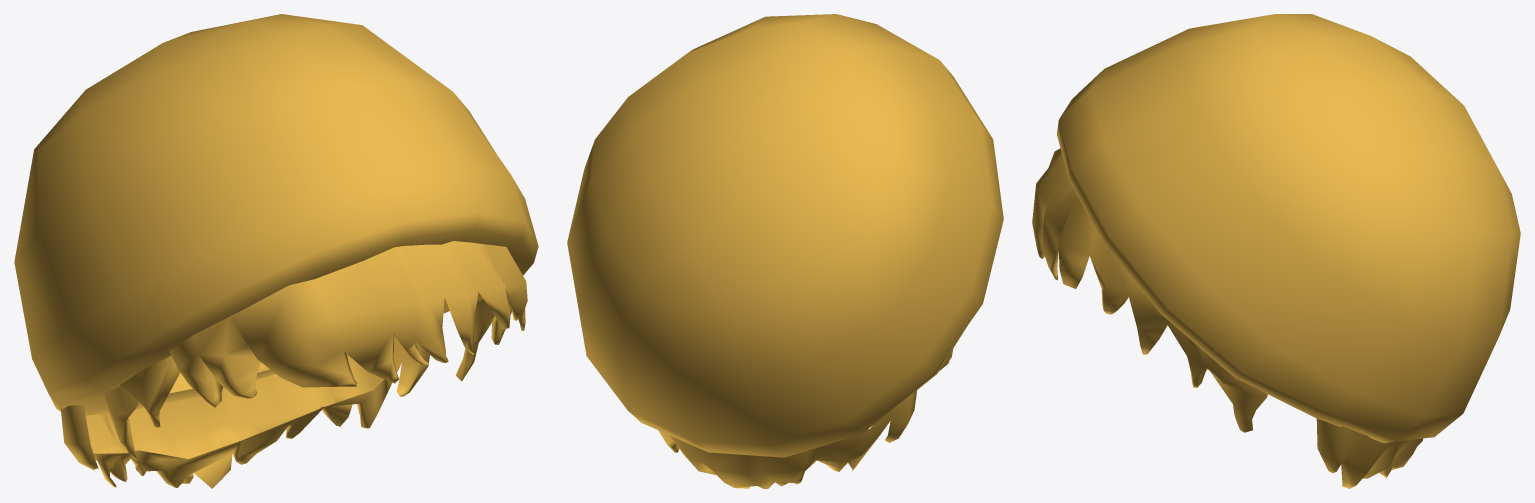
File: hair_hat_l.fbx
3 renders of one model, left to right at view 1: azimuth 30°, elevation 25°; view 2: azimuth 150°, elevation 25°; view 3: azimuth 270°, elevation 25°, orthographic. The views are drawn at different scales.
Parts seen in each view (by area): view 1: hat_l, hair_l; view 2: hat_l, hair_l; view 3: hat_l, hair_l.
Part boxes in pixels (<box>): hat_l: <box>14,14,538,415</box>; hair_l: <box>60,241,527,488</box>; hat_l: <box>567,14,1003,457</box>; hair_l: <box>658,349,952,488</box>; hat_l: <box>1057,14,1520,443</box>; hair_l: <box>1032,148,1423,488</box>.
Size of the model in its own units: 52.3 by 57.1 by 57.42.
